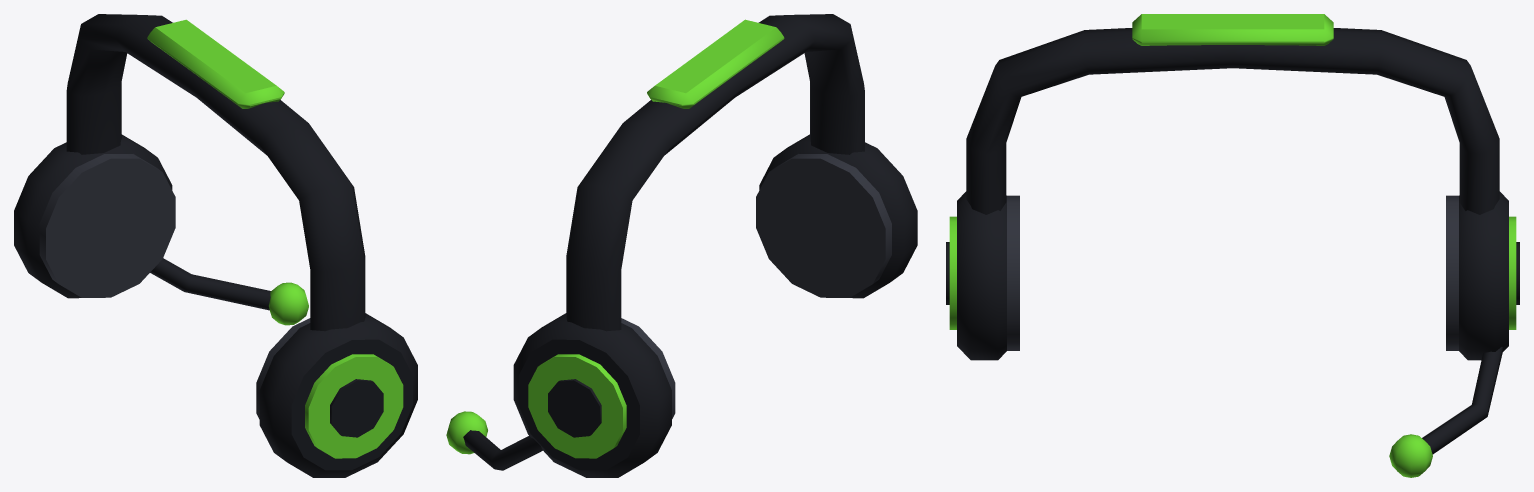
The model's file is hat-headphones.glb.
The picture shows the model from 3 angles, left to right: view 1: azimuth 30°, elevation 25°; view 2: azimuth 150°, elevation 25°; view 3: azimuth 270°, elevation 25°; orthographic projection.
Parts seen in each view (by area): view 1: Hat; view 2: Hat; view 3: Hat.
Part boxes in pixels (<box>): Hat: <box>14,14,417,477</box>; Hat: <box>446,14,917,477</box>; Hat: <box>946,14,1519,477</box>.
Size of the model in its own units: 0.3216 by 0.453 by 0.628.
